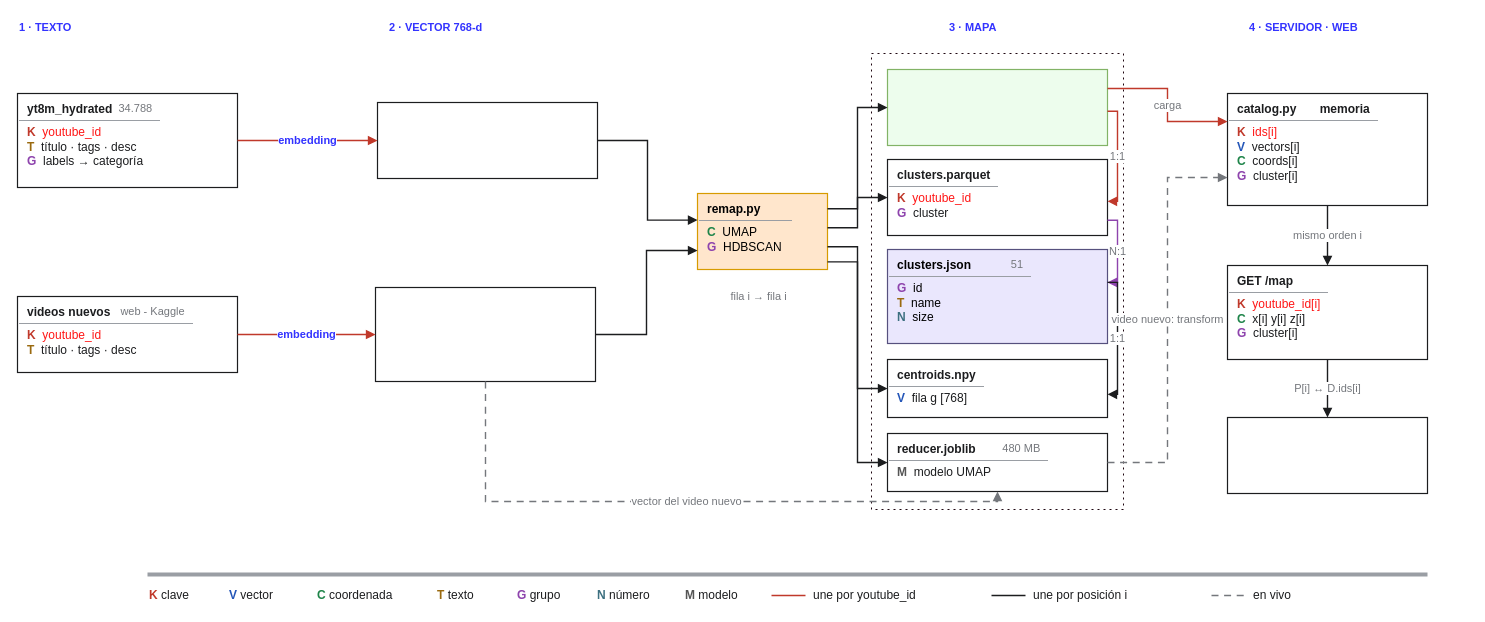
Image size: 1485x622. Some labels were removed from this diagram. Here are the shapes that lost their labels. From the top down, the centre of each, then its label:
At point (997, 107): "coords.parquet 44.779 K youtube_id C x · y · z".
At point (487, 140): "emb_text.parquet base K youtube_id V emb [768]".
At point (485, 334): "received · SQLite 9.991 K youtube_id PK T metadata_json V embedding [768]".
At point (1327, 455): "web · three.js C punto P[i] K D.ids[i] → panel".
